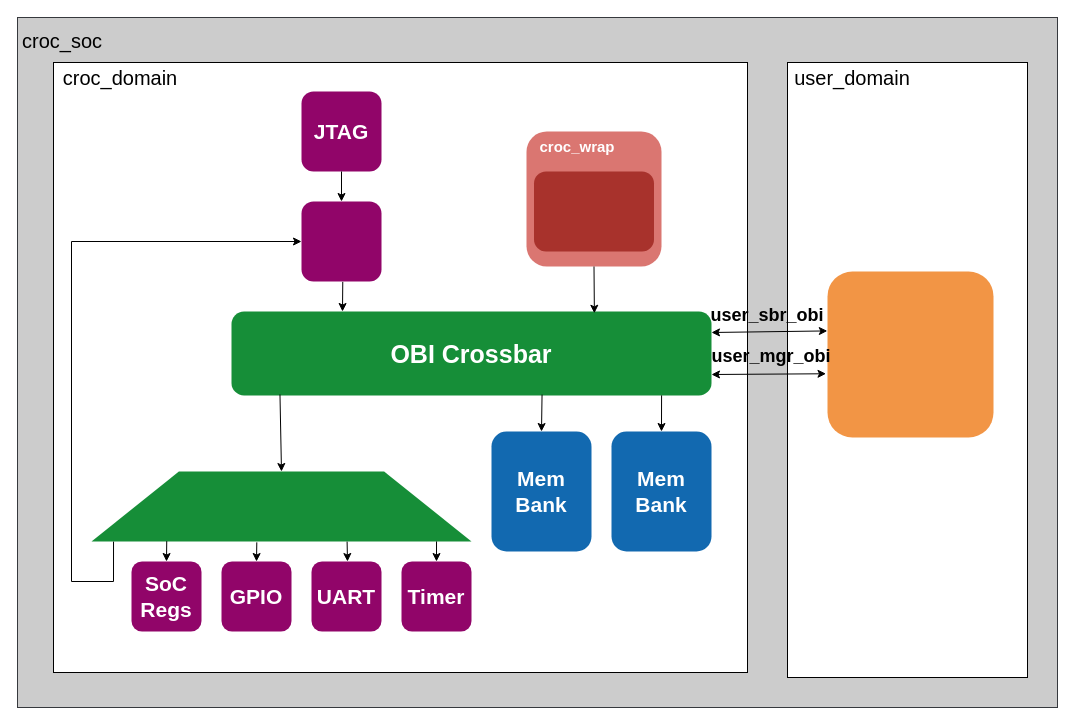
Image size: 1075x725. Some labels were removed from this diagram. The centre of each missing label's shape, as x and y in pixels:
"cryptographic accelerator" goes at pixel 910 354.
"CVE2 (ibex)" goes at pixel 594 211.
"Debug" goes at pixel 341 241.
"OBI Demux" goes at pixel 281 506.
